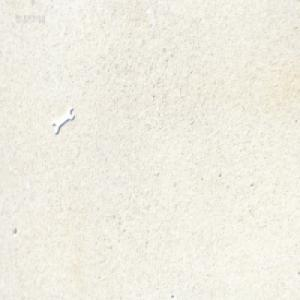Wrench: (51, 106, 74, 137)
